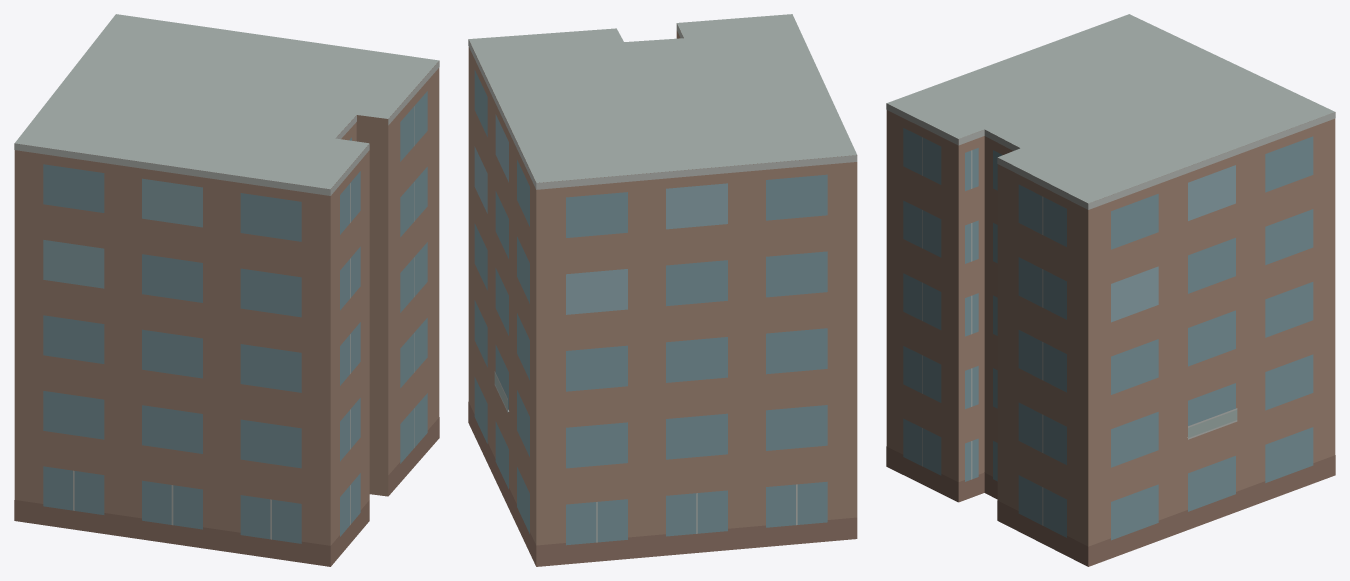
File: survey-upis-32889567.glb
3 views of the same model, side by side, from view 1: azimuth 30°, elevation 25°; view 2: azimuth 150°, elevation 25°; view 3: azimuth 270°, elevation 25° (orthographic). The views are drawn at different scales.
Parts seen in each view (by area): view 1: survey-upis-32889567.tmp; view 2: survey-upis-32889567.tmp; view 3: survey-upis-32889567.tmp.
Part boxes in pixels (left/top/right/bottom): survey-upis-32889567.tmp: left=14, top=14, right=439, bottom=566; survey-upis-32889567.tmp: left=468, top=14, right=857, bottom=566; survey-upis-32889567.tmp: left=886, top=14, right=1335, bottom=566.
Size of the model in its own units: 15.34 by 13.7 by 15.35.
